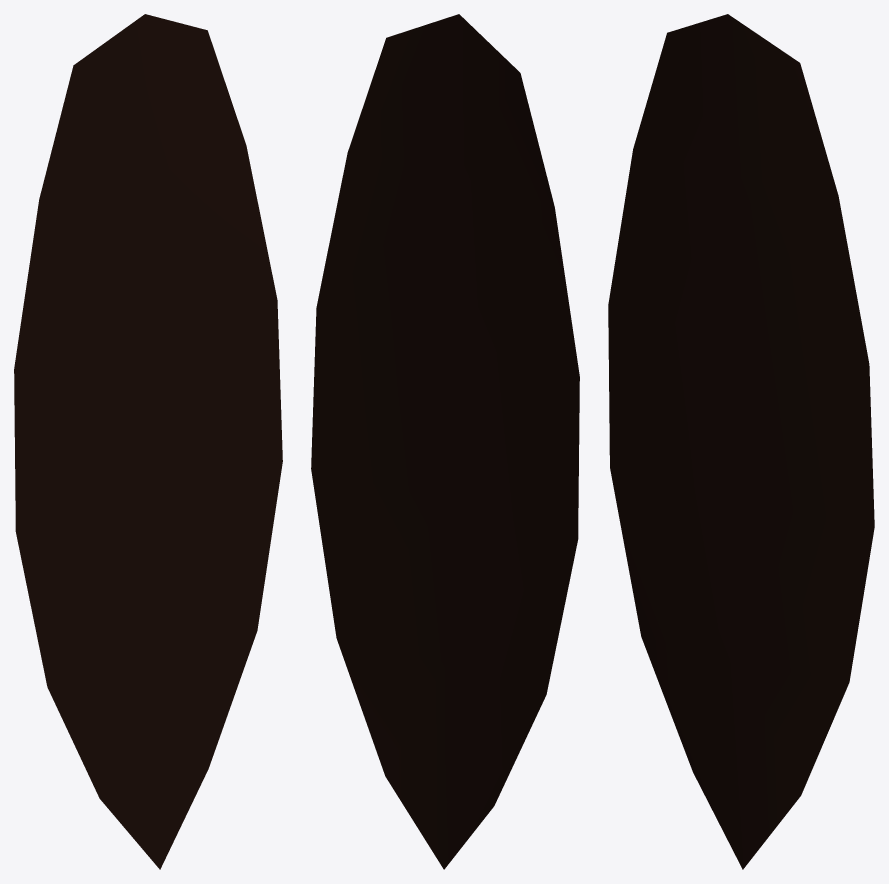
Rendered from hen_feather_flight_secondary_004.obj.
3 views of the same model, side by side, from view 1: azimuth 30°, elevation 25°; view 2: azimuth 150°, elevation 25°; view 3: azimuth 330°, elevation 25° (orthographic).
Parts seen in each view (by area): view 1: feather_flight_secondary_004; view 2: feather_flight_secondary_004; view 3: feather_flight_secondary_004.
Part boxes in pixels (bbox=[...]): feather_flight_secondary_004: bbox=[14, 14, 282, 869]; feather_flight_secondary_004: bbox=[311, 14, 579, 869]; feather_flight_secondary_004: bbox=[608, 14, 874, 869].
Size of the model in its own units: 0.0159 by 0.0485 by 0.000524.
